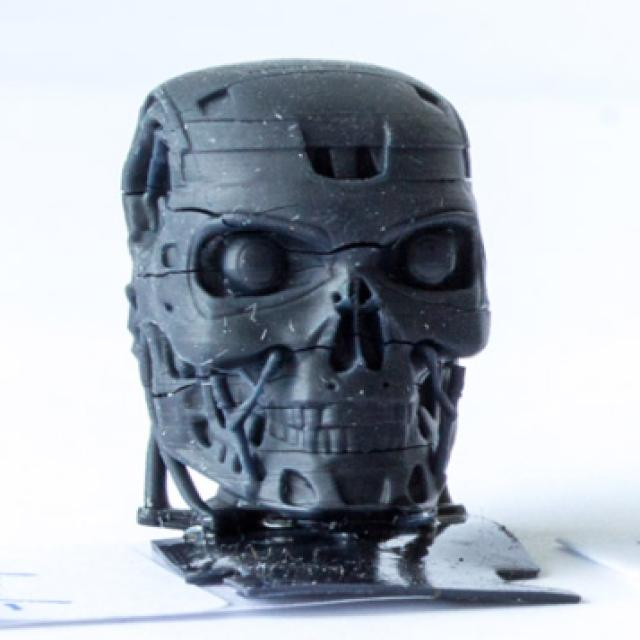Warping: (130, 326, 460, 390), (141, 162, 345, 255)
